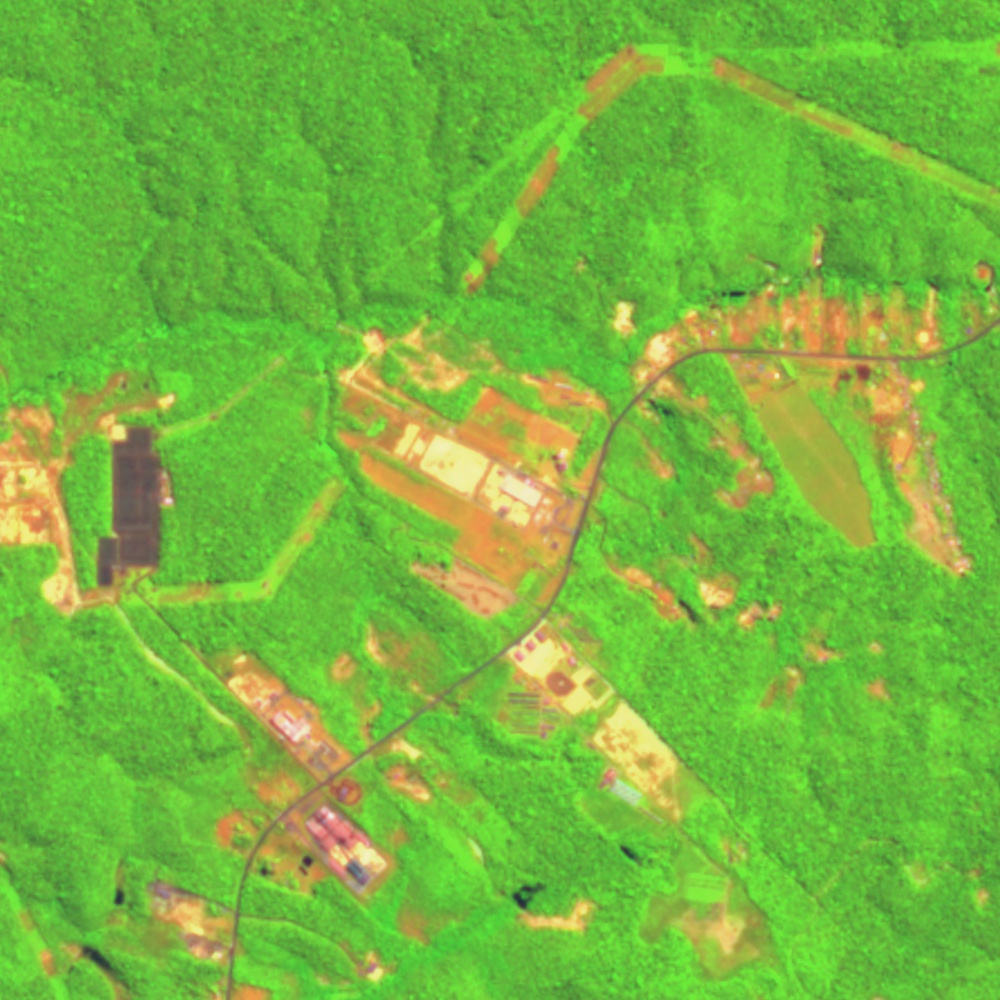legal: (611, 225, 1000, 575), (335, 325, 612, 604), (600, 530, 898, 710), (1, 365, 177, 619), (507, 620, 687, 826), (213, 756, 399, 906), (616, 825, 777, 981), (207, 652, 364, 809), (349, 615, 476, 796), (112, 853, 251, 962), (460, 832, 600, 932), (895, 842, 999, 909), (37, 936, 145, 1000), (333, 939, 401, 984), (211, 973, 278, 1000)
